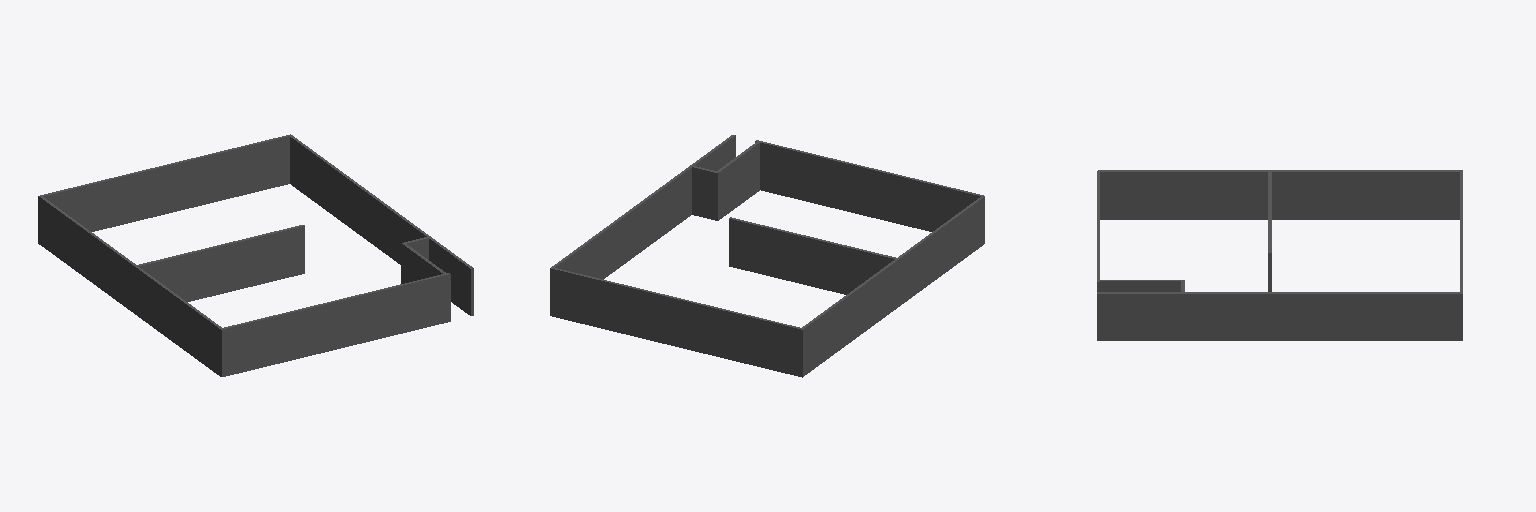
The model's file is Ship_6.obj.
3 views of the same model, side by side, from view 1: azimuth 30°, elevation 25°; view 2: azimuth 150°, elevation 25°; view 3: azimuth 270°, elevation 25° (orthographic).
Size of the model in its own units: 552 by 100 by 693.